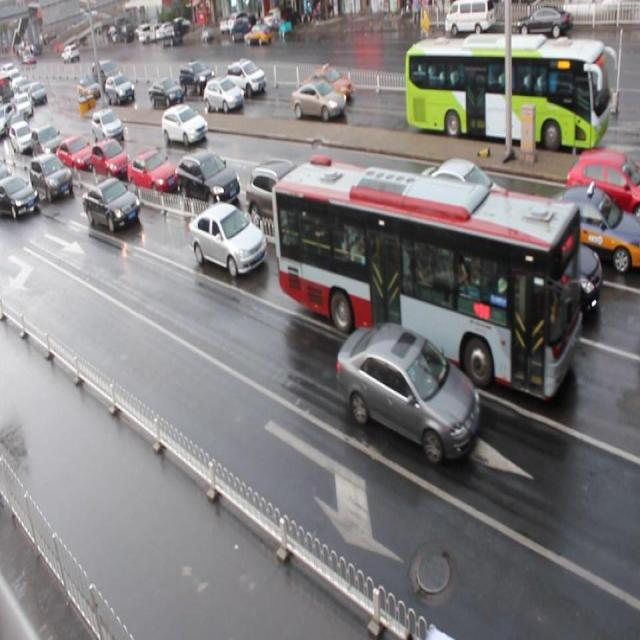car: (335, 322, 477, 462), (528, 185, 640, 274), (414, 156, 513, 237), (340, 186, 430, 270), (188, 200, 266, 278), (246, 159, 328, 232), (565, 148, 640, 225), (176, 149, 240, 205), (82, 176, 140, 232), (129, 145, 177, 193), (30, 152, 73, 204), (291, 83, 347, 122), (300, 64, 353, 105), (160, 103, 209, 147), (1, 172, 38, 220), (56, 132, 94, 175), (204, 77, 245, 114), (226, 61, 267, 98), (90, 137, 127, 176), (92, 108, 124, 147), (180, 60, 215, 93), (31, 125, 61, 163), (148, 79, 185, 107), (105, 74, 135, 105)
truck: (460, 193, 603, 325)
van: (273, 157, 579, 400), (404, 36, 609, 150)
